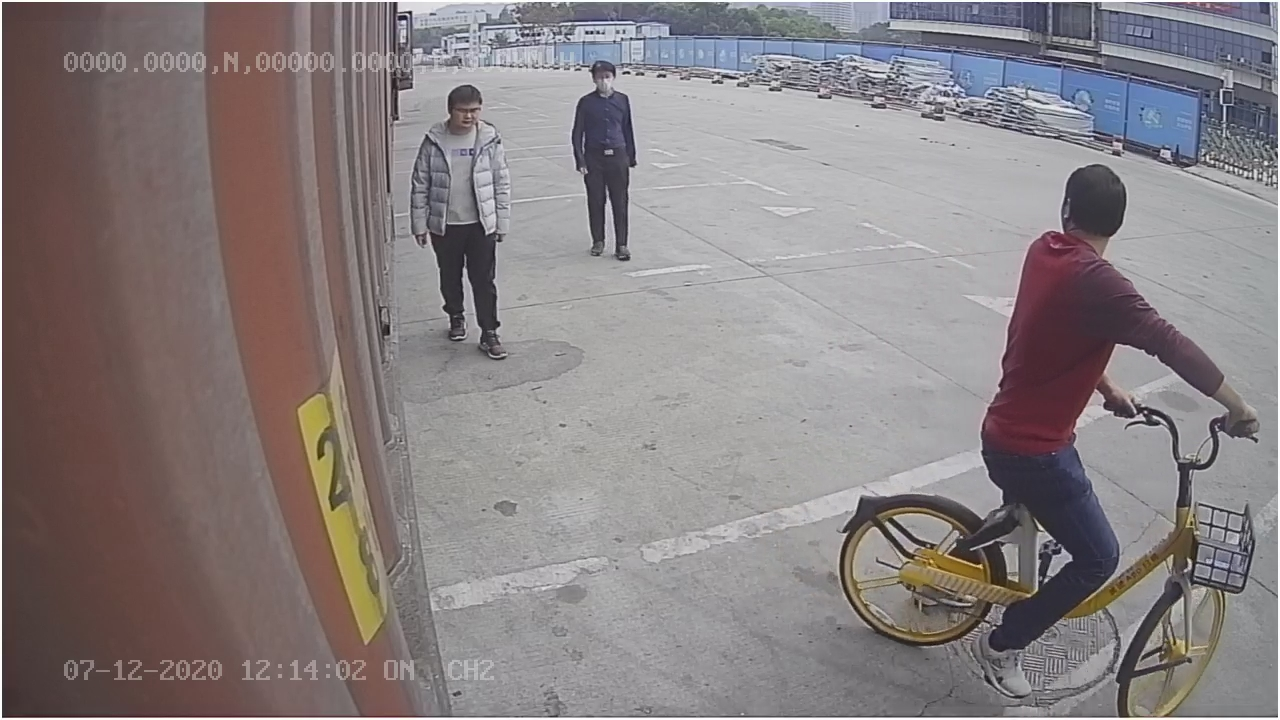person: (409, 84, 514, 362), (553, 50, 660, 273)
